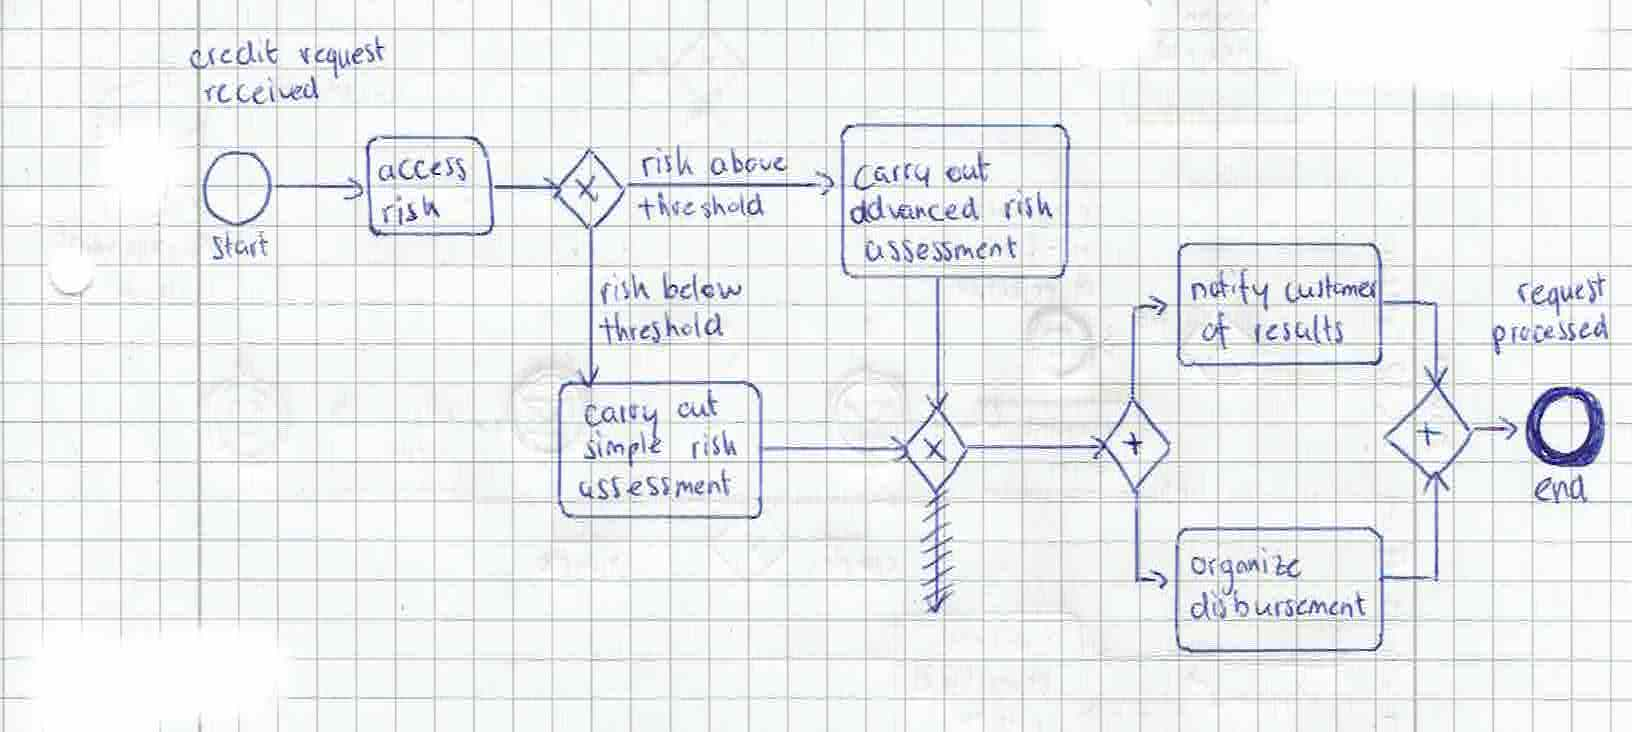Start: (205, 229, 274, 264)
above: (705, 143, 792, 181)
access: (374, 151, 471, 190)
advanced: (844, 191, 983, 228)
assessment: (573, 465, 737, 507), (861, 231, 1022, 270)
below: (657, 268, 745, 306)
carry: (578, 398, 664, 443), (849, 156, 936, 197)
credit: (182, 35, 286, 76)
customer: (1281, 270, 1380, 306)
disbursement: (1185, 586, 1371, 627)
end: (1531, 472, 1589, 509)
notify: (1187, 263, 1274, 314)
of: (1196, 309, 1236, 352)
organize: (1187, 542, 1305, 601)
out: (940, 149, 996, 186), (671, 387, 724, 426)
processed: (1486, 308, 1616, 361)
received: (199, 70, 323, 113)
request: (294, 32, 389, 85), (1514, 268, 1611, 320)
results: (1249, 311, 1350, 350)
risk: (377, 188, 447, 231), (635, 140, 698, 182), (595, 270, 655, 309), (997, 187, 1059, 225), (686, 427, 741, 464)
simple: (579, 427, 667, 471)
threshold: (594, 306, 724, 350), (632, 186, 770, 224)
